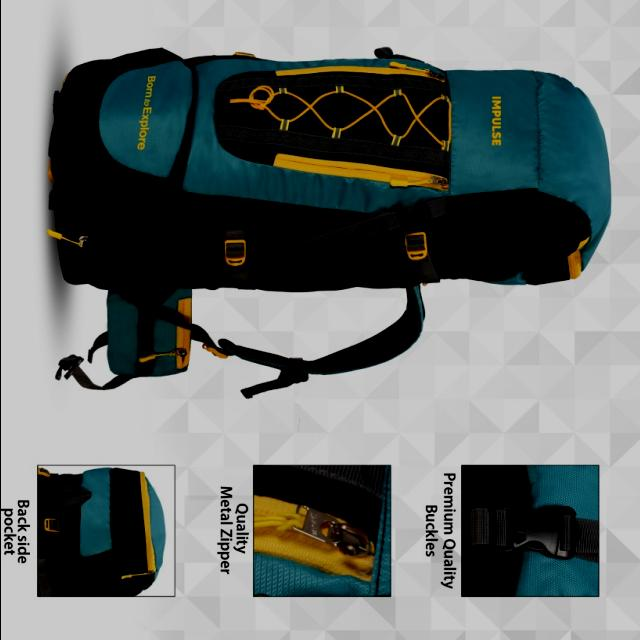backpack: (47, 47, 613, 399), (37, 467, 166, 598)
